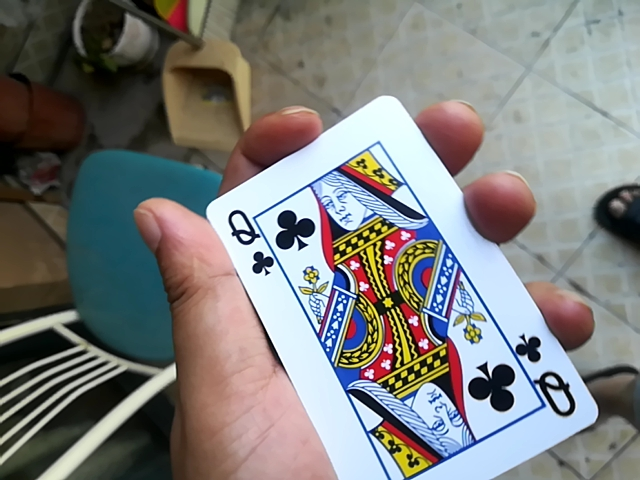mh q: (182, 85, 604, 479)
